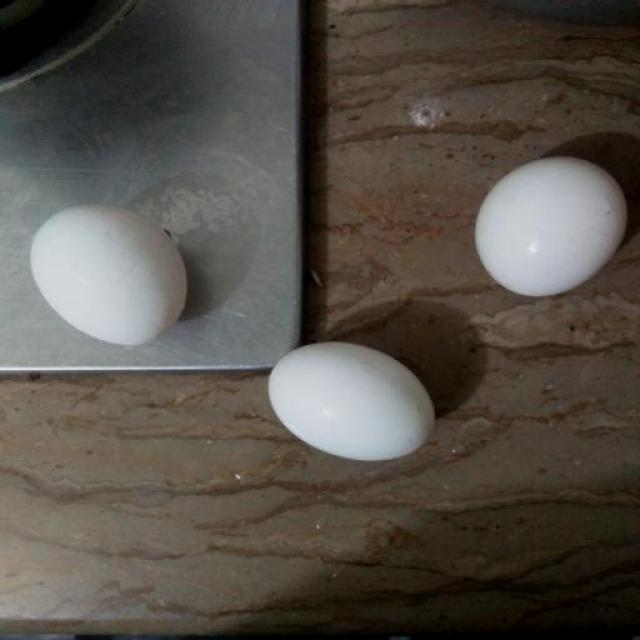telur: (30, 206, 187, 346), (472, 156, 622, 297), (268, 342, 434, 462)
